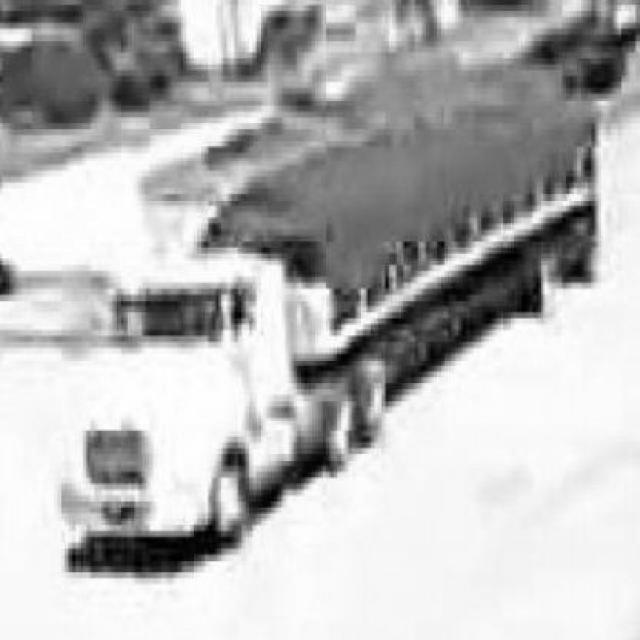Tractor Trailer: (60, 70, 610, 552)
